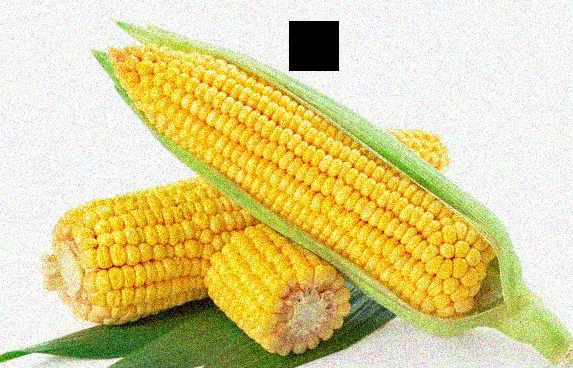corn: (118, 38, 547, 343), (59, 132, 451, 305)
